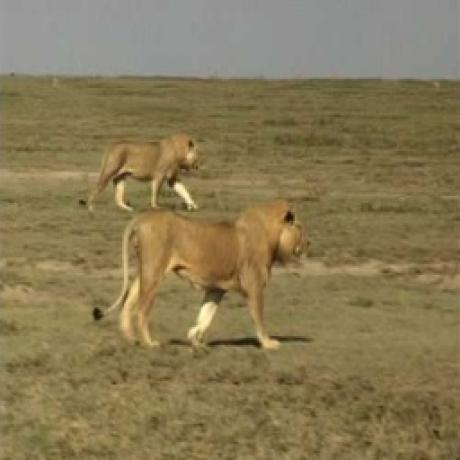Lion: (91, 202, 310, 357), (91, 135, 207, 210)
